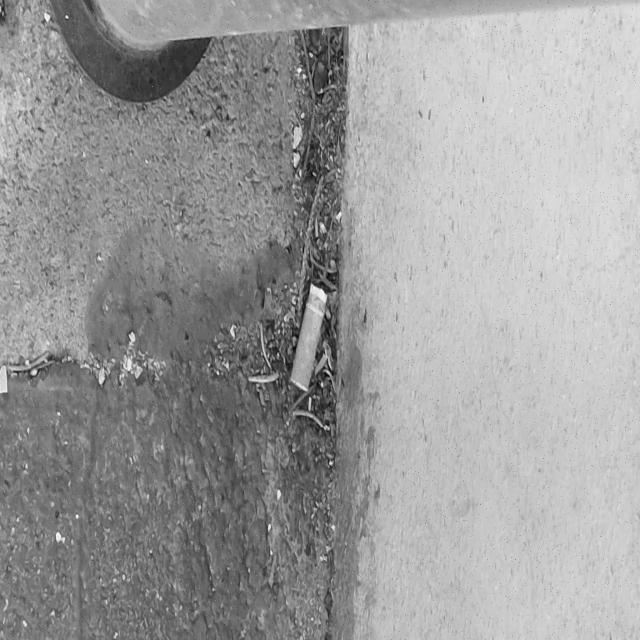other waste: (290, 280, 328, 392)
